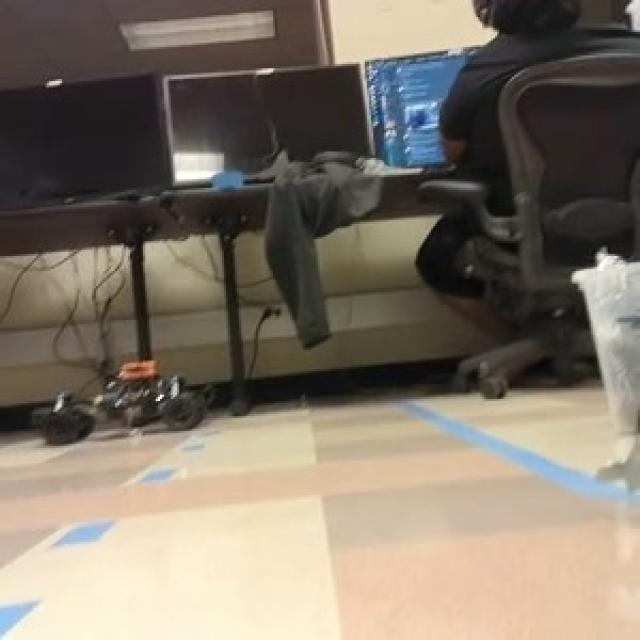obstacle: (44, 358, 214, 445)
